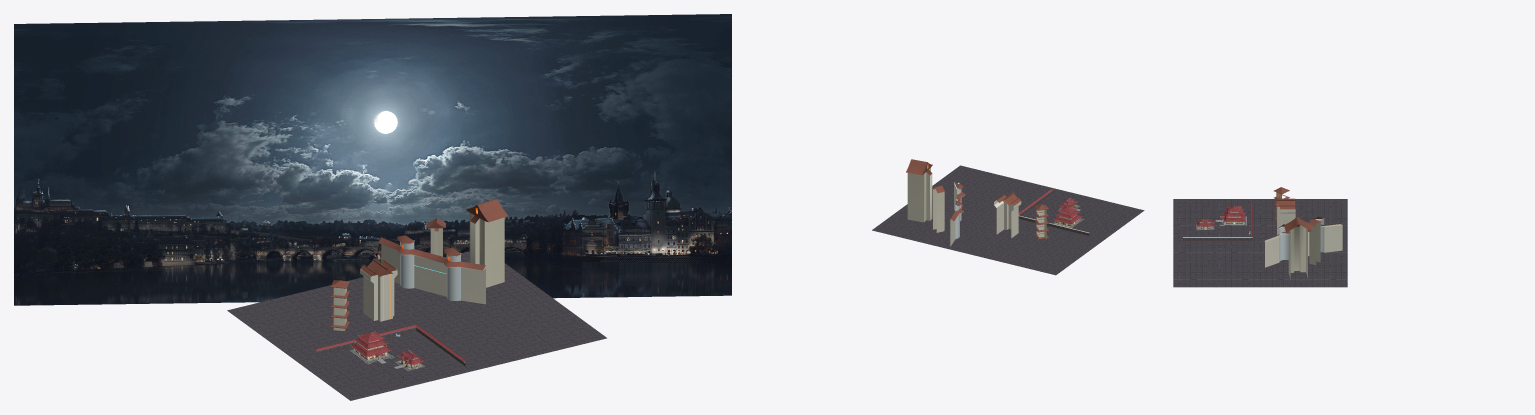
The model's file is japan map.glb.
3 views of the same model, side by side, from view 1: azimuth 30°, elevation 25°; view 2: azimuth 150°, elevation 25°; view 3: azimuth 270°, elevation 25° (orthographic). The views are drawn at different scales.
Parts seen in each view (by area): view 1: Plane.023, Ground, Background, House2; view 2: Ground, Background, House2; view 3: Ground, Background, House2.
Boxes of the visible parts, x1=… form: Plane.023: x1=14, y1=14, x2=731, y2=305; Ground: x1=227, y1=251, x2=606, y2=400; Background: x1=316, y1=198, x2=507, y2=378; House2: x1=350, y1=330, x2=392, y2=360; Ground: x1=872, y1=165, x2=1144, y2=275; Background: x1=906, y1=159, x2=1098, y2=246; House2: x1=1052, y1=206, x2=1082, y2=226; Ground: x1=1173, y1=199, x2=1347, y2=287; Background: x1=1183, y1=187, x2=1342, y2=279; House2: x1=1220, y1=206, x2=1245, y2=223.
Bounding box in the file's own units: 61458 × 30159 × 47832.
5 materials, 5 textured.
